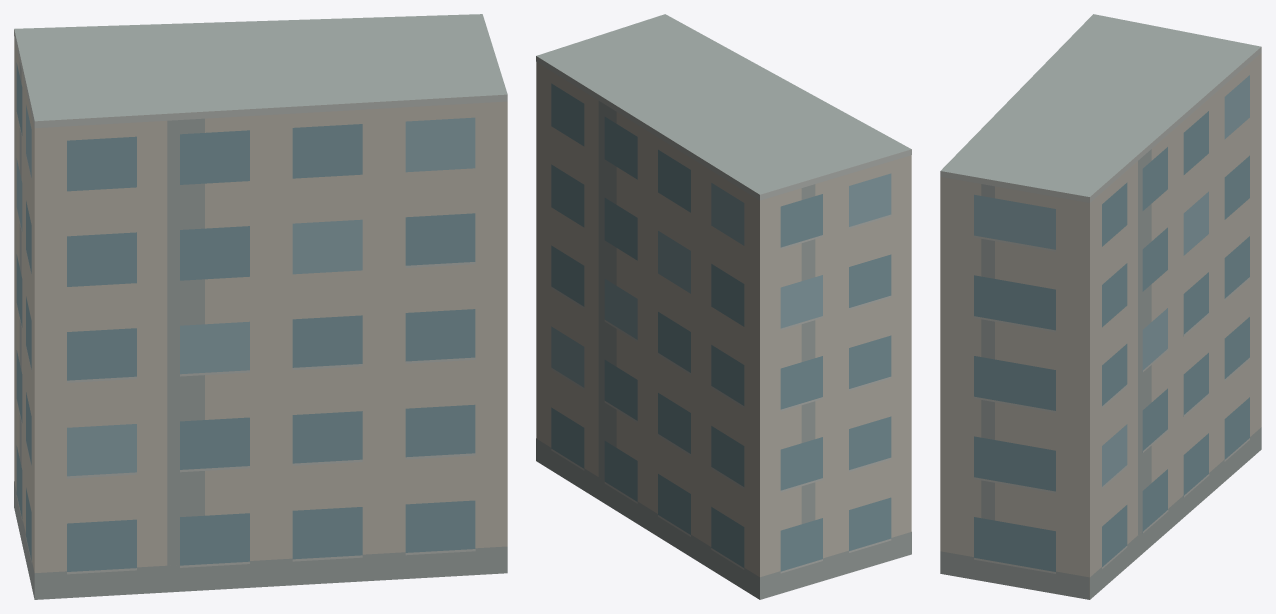
File: survey-upis-32971320.glb
The picture shows the model from 3 angles, left to right: view 1: azimuth 30°, elevation 25°; view 2: azimuth 150°, elevation 25°; view 3: azimuth 270°, elevation 25°; orthographic projection. The views are drawn at different scales.
Parts seen in each view (by area): view 1: survey-upis-32971320.tmp; view 2: survey-upis-32971320.tmp; view 3: survey-upis-32971320.tmp.
Boxes of the visible parts, box(x1,y1,x2,y2) form: survey-upis-32971320.tmp: box(14, 14, 507, 599); survey-upis-32971320.tmp: box(536, 14, 911, 599); survey-upis-32971320.tmp: box(940, 14, 1261, 599).
Bounding box in the file's own units: 16.39 × 16.8 × 12.15.
